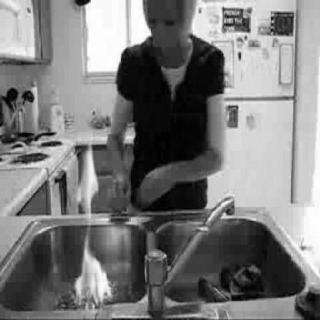Fire: (38, 108, 134, 306)
